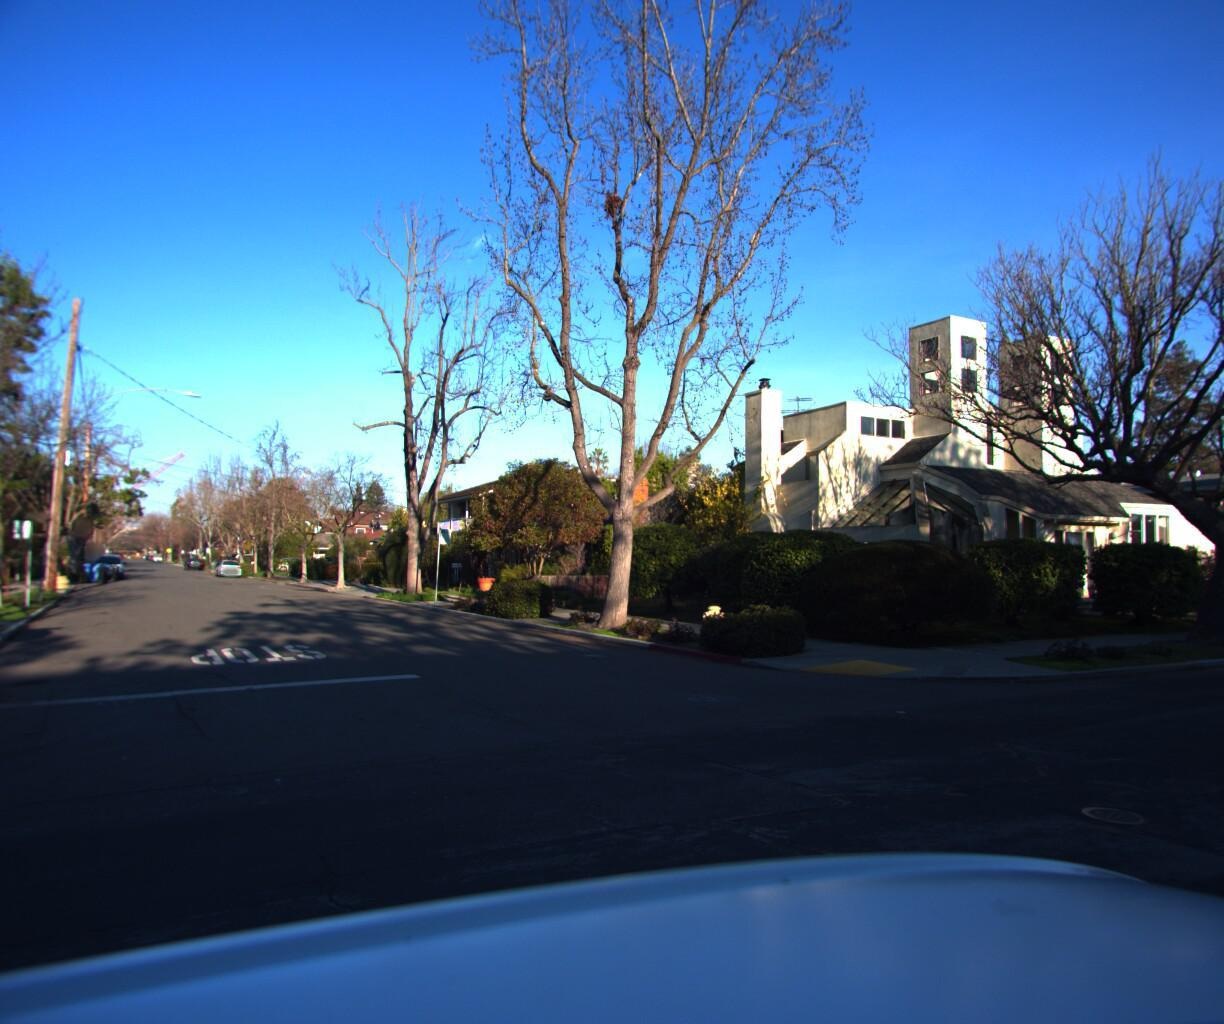car: (85, 549, 122, 580), (91, 548, 129, 576), (215, 553, 241, 575)
